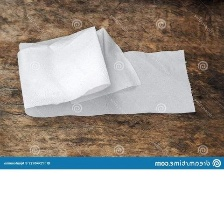tissue: (12, 22, 203, 122)
